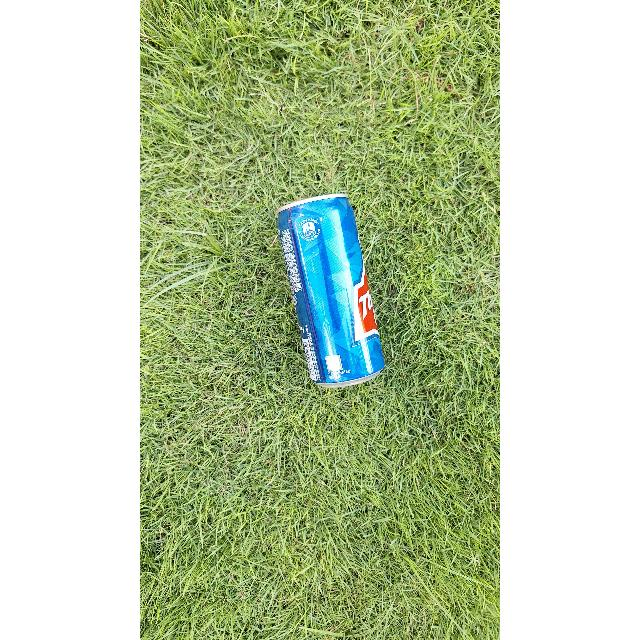Thums Up: (276, 185, 384, 388)
